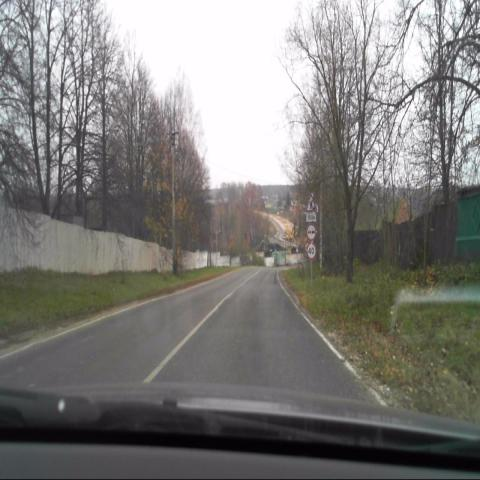1_25: (306, 193, 317, 212)
3_20: (306, 224, 316, 240)
3_24: (306, 241, 316, 259)
